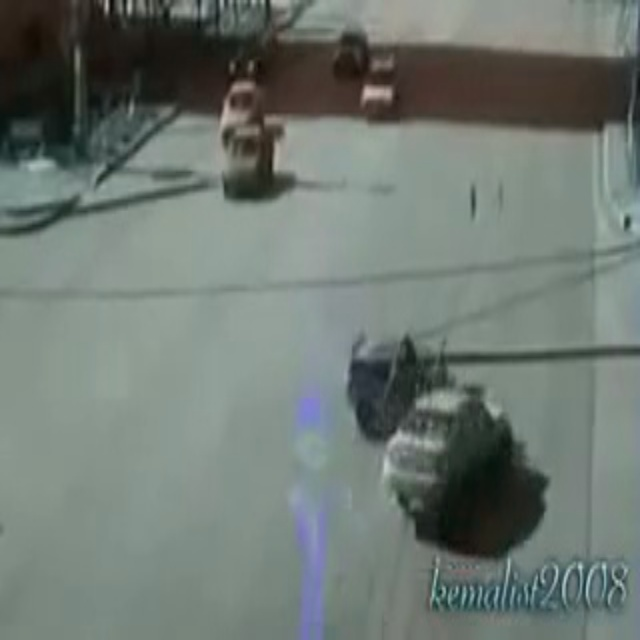acc: (332, 321, 519, 530)
